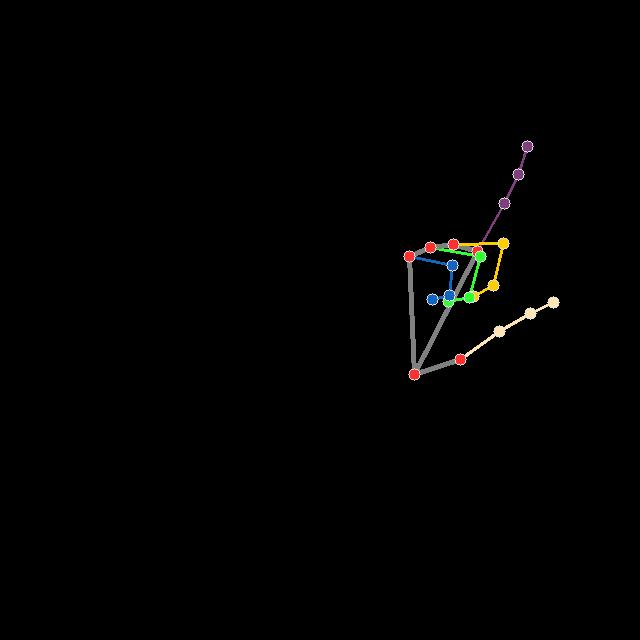gun: (404, 138, 564, 381)
